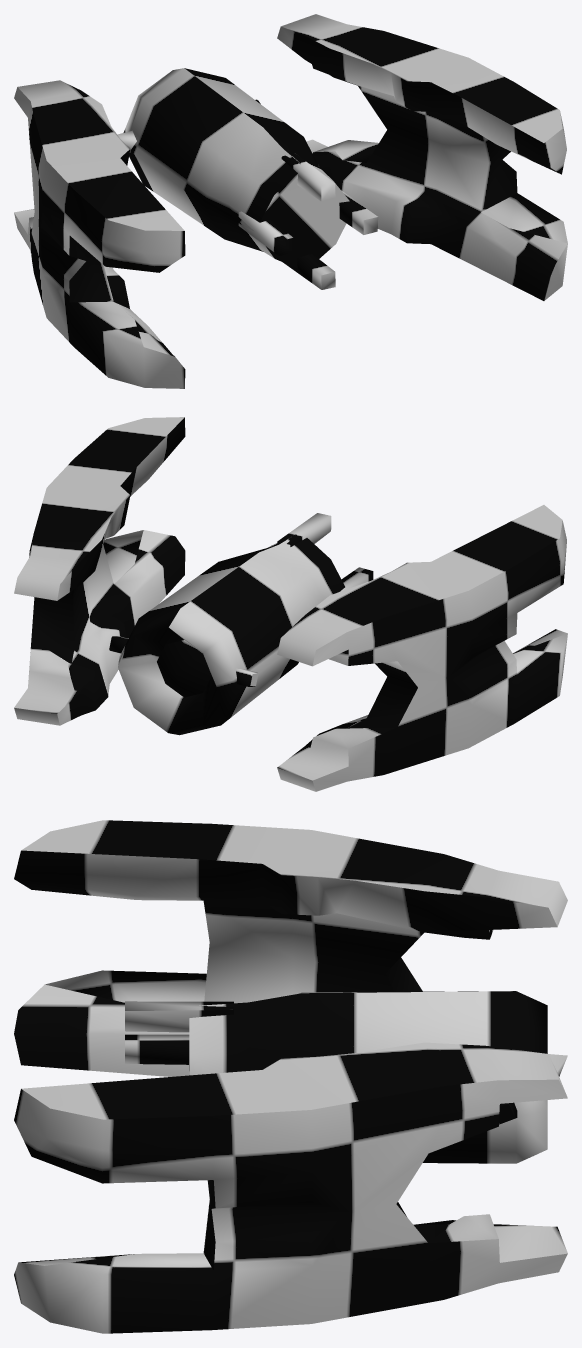
The model's file is drone_enigma.obj.
The picture shows the model from 3 angles, top to bottom: view 1: azimuth 30°, elevation 25°; view 2: azimuth 150°, elevation 25°; view 3: azimuth 270°, elevation 25°; orthographic projection. The views are drawn at different scales.
Visible parts, largest first — view 1: droneMesh; view 2: droneMesh; view 3: droneMesh.
Part boxes in pixels (x1,y1,x2,y2): droneMesh: [14, 14, 567, 388]; droneMesh: [14, 417, 567, 791]; droneMesh: [14, 820, 567, 1333].
Bounding box in the file's own units: 83.23 × 28.06 × 63.98.
1 material, 1 textured.
